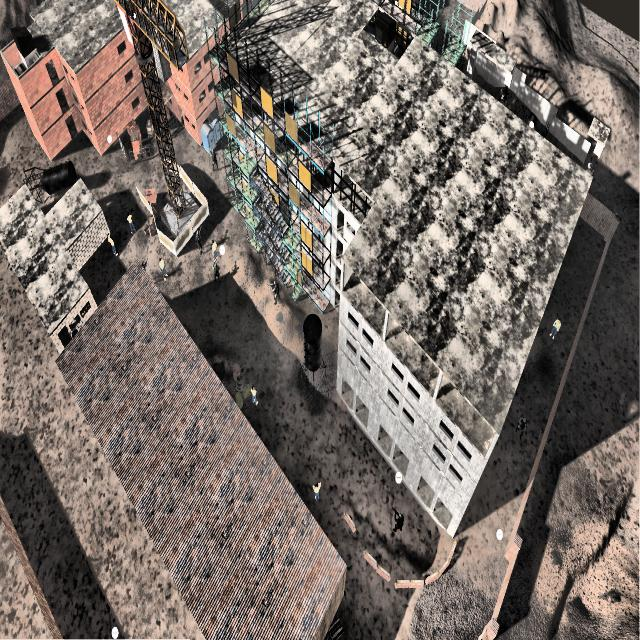bad: (389, 499, 408, 544), (514, 409, 530, 451), (269, 273, 283, 307), (208, 143, 220, 177), (193, 223, 204, 255), (212, 261, 222, 285), (141, 254, 150, 268)
good: (104, 226, 120, 265), (308, 472, 324, 508), (548, 306, 562, 346), (157, 251, 170, 290), (247, 380, 260, 412), (125, 204, 137, 238), (209, 235, 218, 259)
